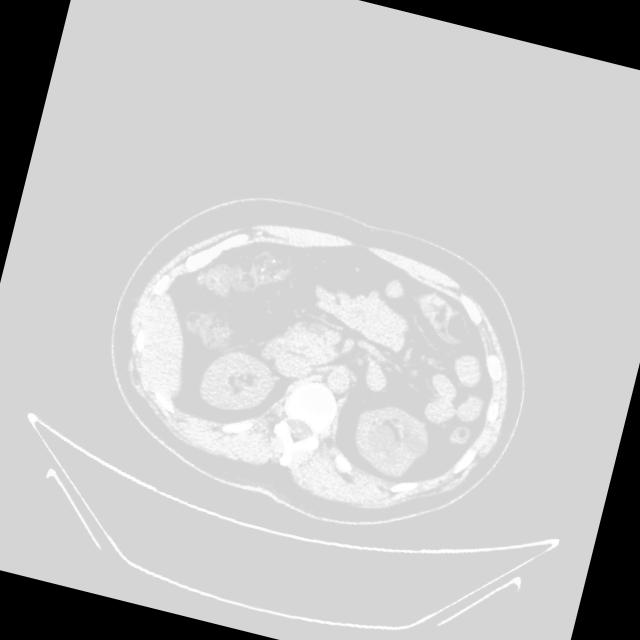cysts: (80, 165, 557, 559)
